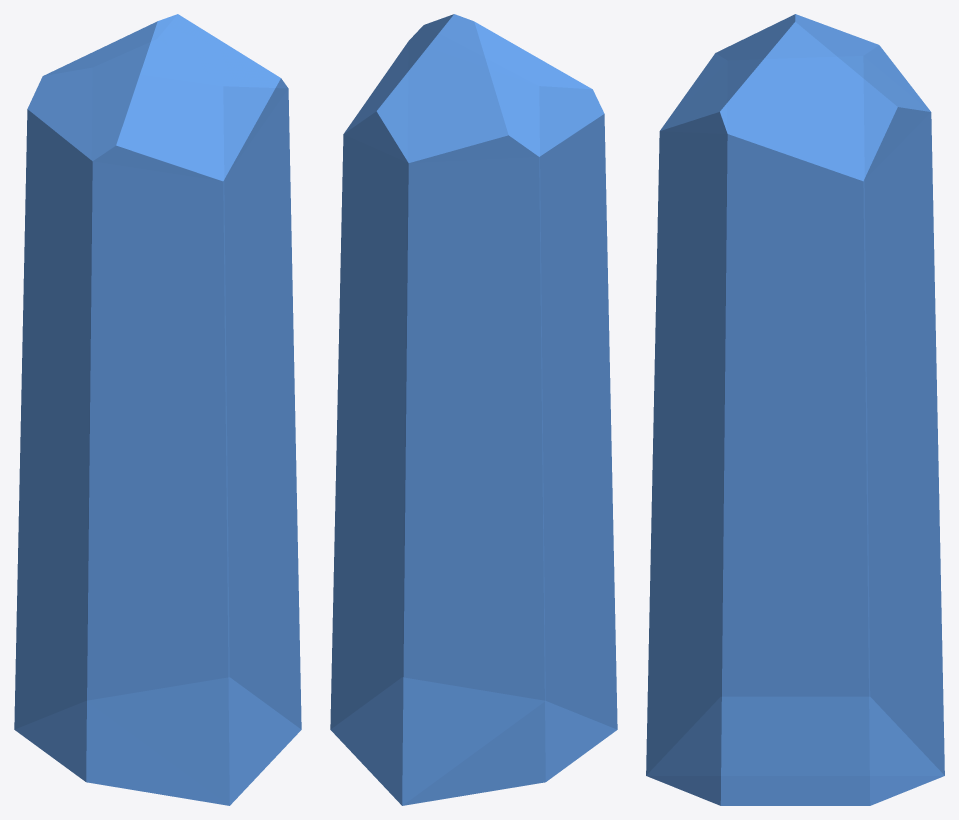
File: Crystal_m_03.fbx
3 renders of one model, left to right at view 1: azimuth 30°, elevation 25°; view 2: azimuth 150°, elevation 25°; view 3: azimuth 270°, elevation 25°, orthographic. The views are drawn at different scales.
Visible parts, largest first — view 1: Crystal_m_03; view 2: Crystal_m_03; view 3: Crystal_m_03.
Part boxes in pixels (left/top/right/bottom): Crystal_m_03: left=14, top=14, right=301, bottom=805; Crystal_m_03: left=330, top=14, right=617, bottom=805; Crystal_m_03: left=646, top=14, right=944, bottom=805.
Bounding box in the file's own units: 0.4161 × 1.36 × 0.4805.
